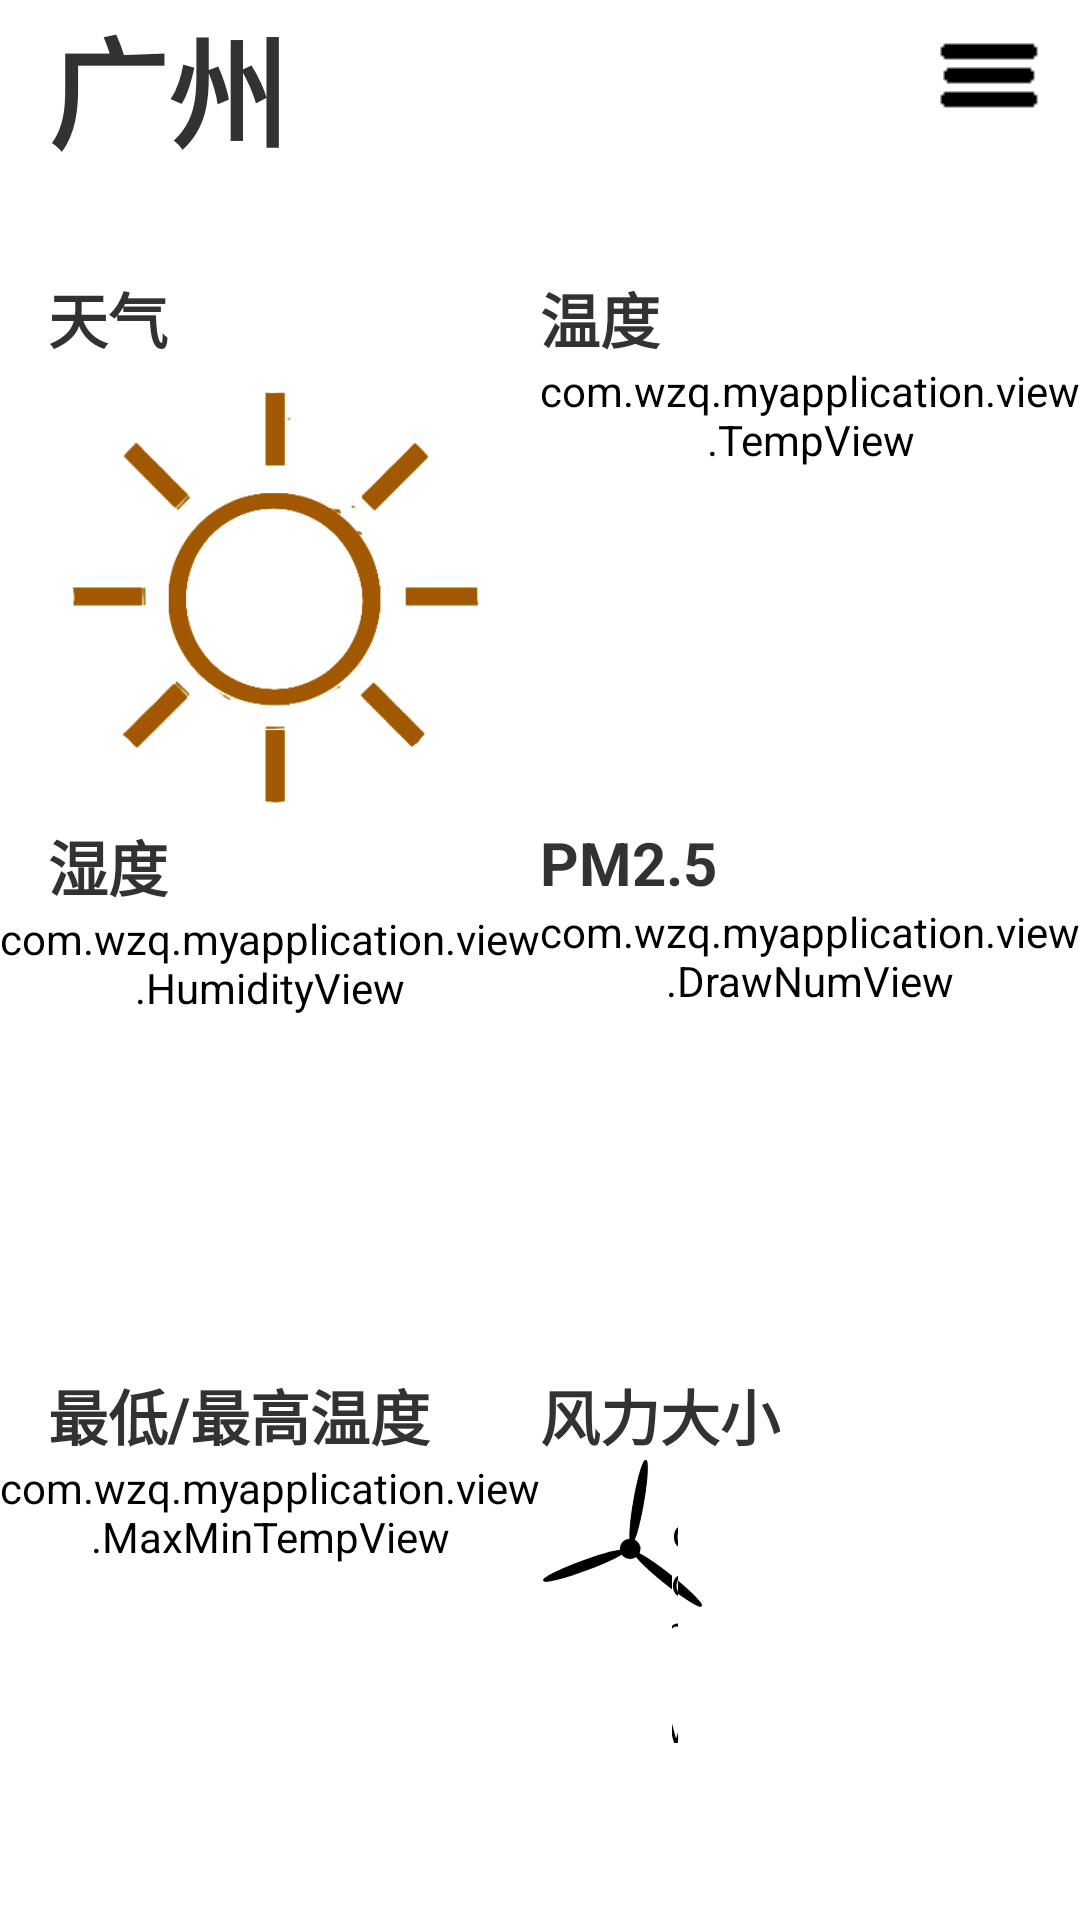

Screen size 1080x1920. Icon name, then its center in pixels as point (x, y):
fengche: point (623, 1544)
menu: point (989, 75)
